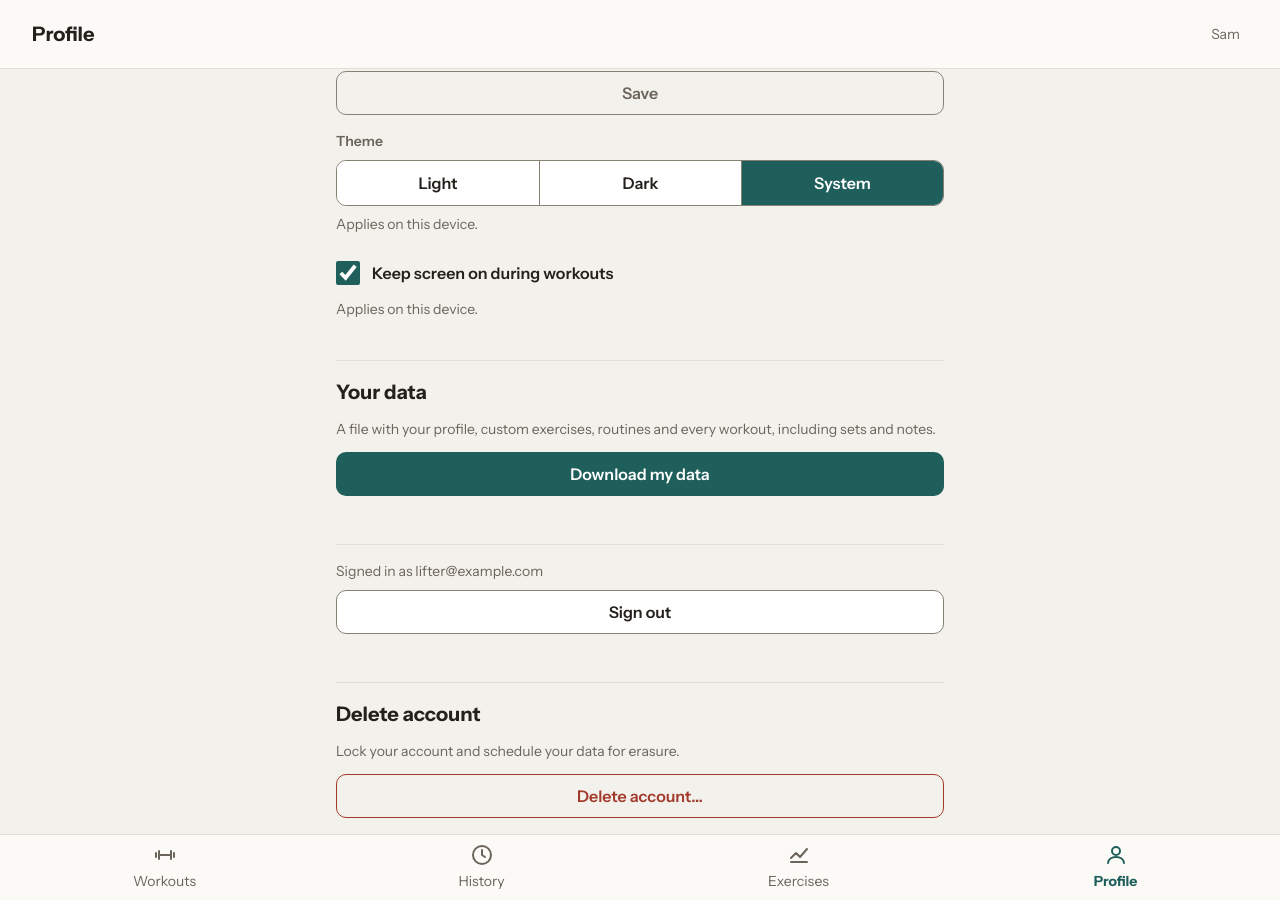
Test case: 12 AC20 — after the 202 the app stops talking to /v1 › replaces the shell with the confirmation, and makes no further request on timers, focus or online events
(page scrolled)
Click the button "Delete account…" at (640, 796), box 336,774 -> 944,818
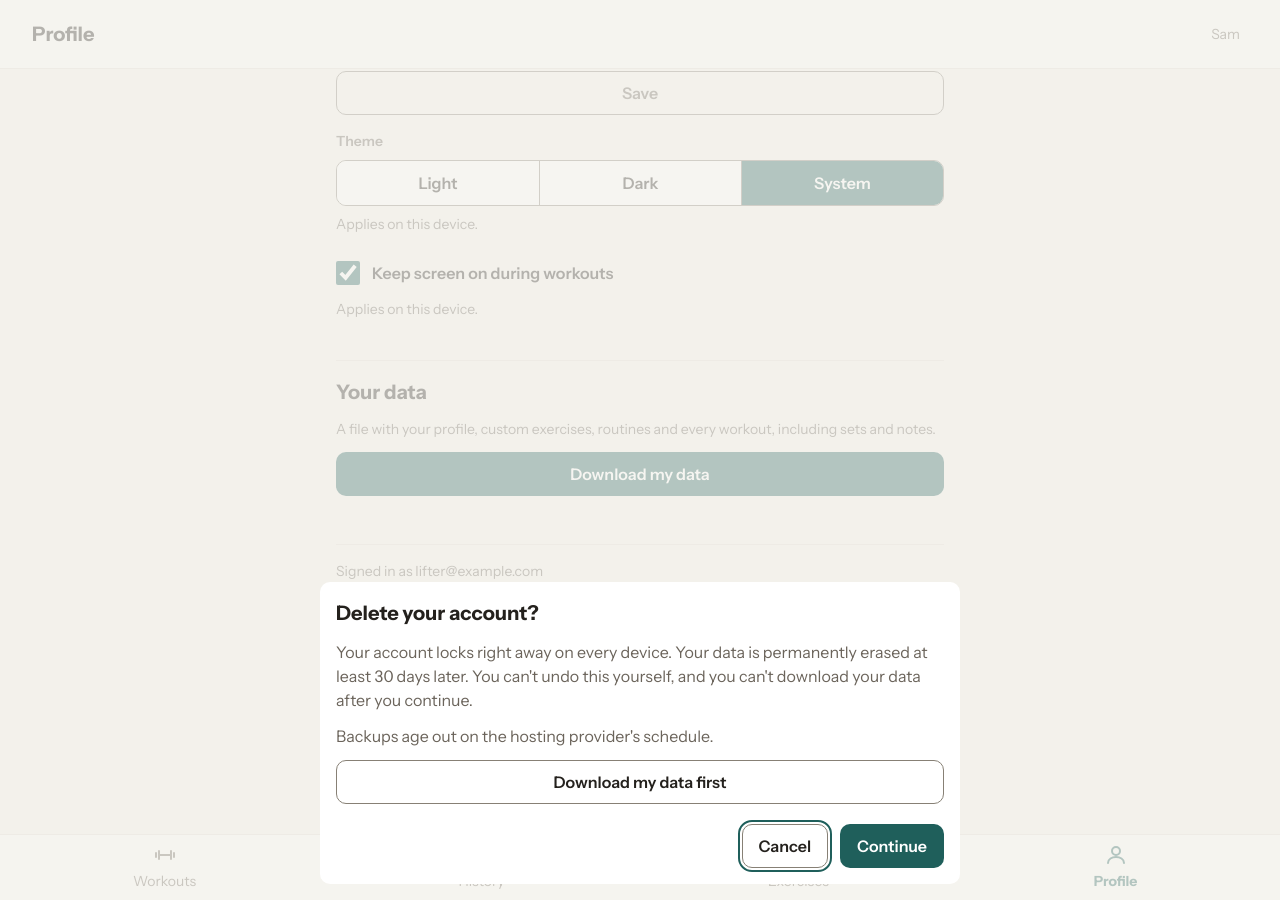
Click the button "Continue" at (892, 846), box 840,824 -> 944,868
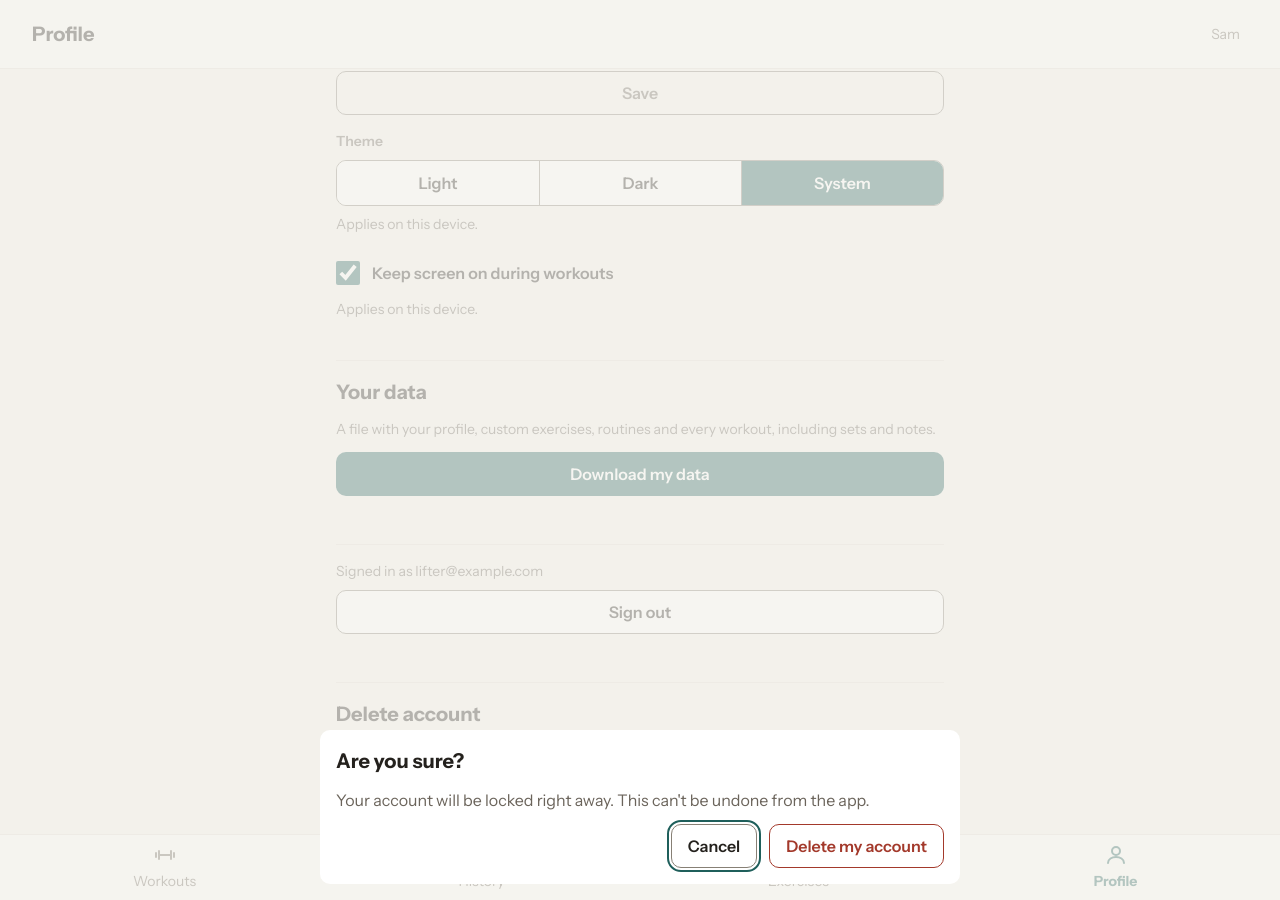
Expected: the button "Delete my account" is enabled
Click the button "Delete my account" at (857, 846), box 769,824 -> 944,868
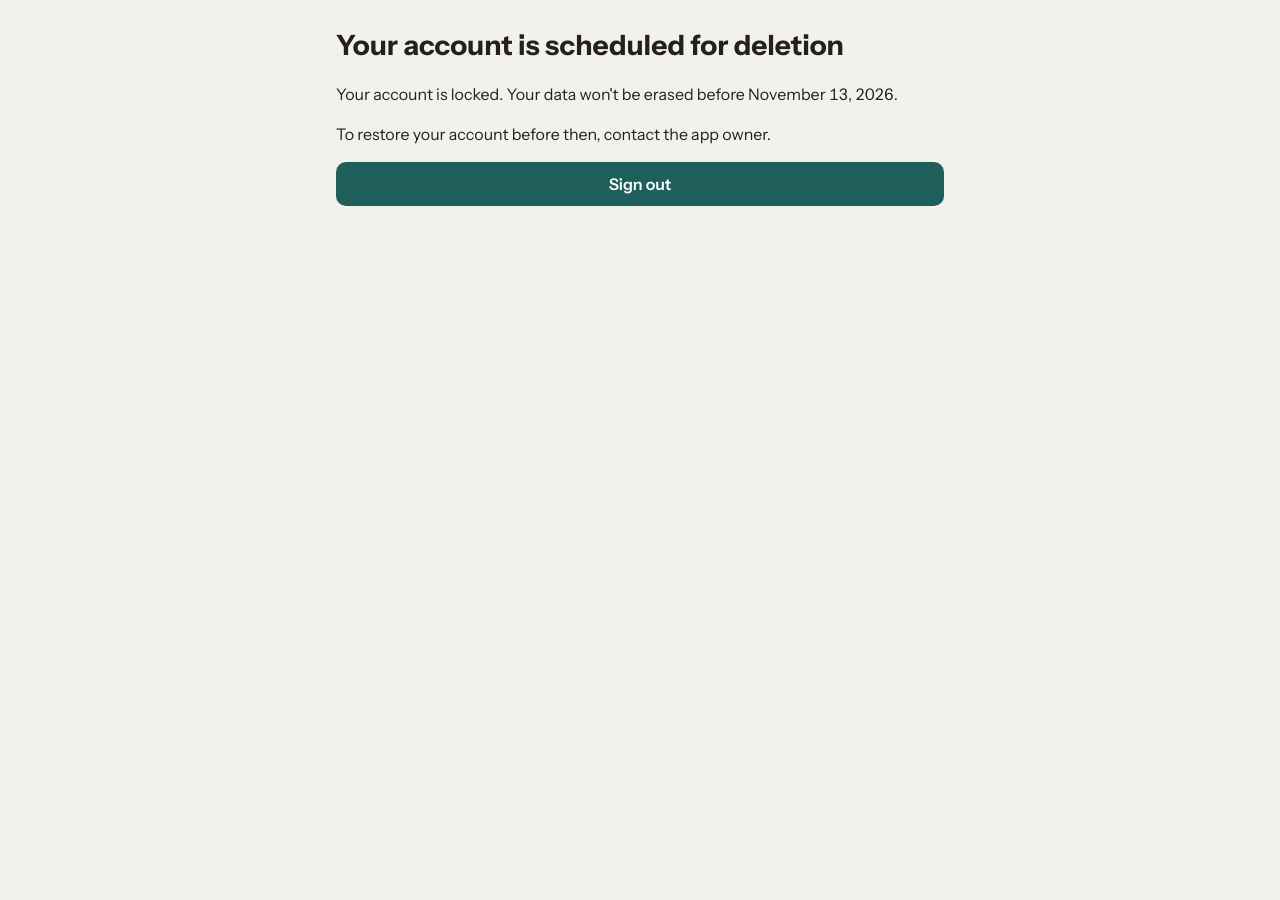
Expected: the heading "Your account is scheduled for deletion" is shown, 336,28 -> 844,62
Expected: the link with test id "app-shell-user" is gone
Expected: the navigation bar is gone
